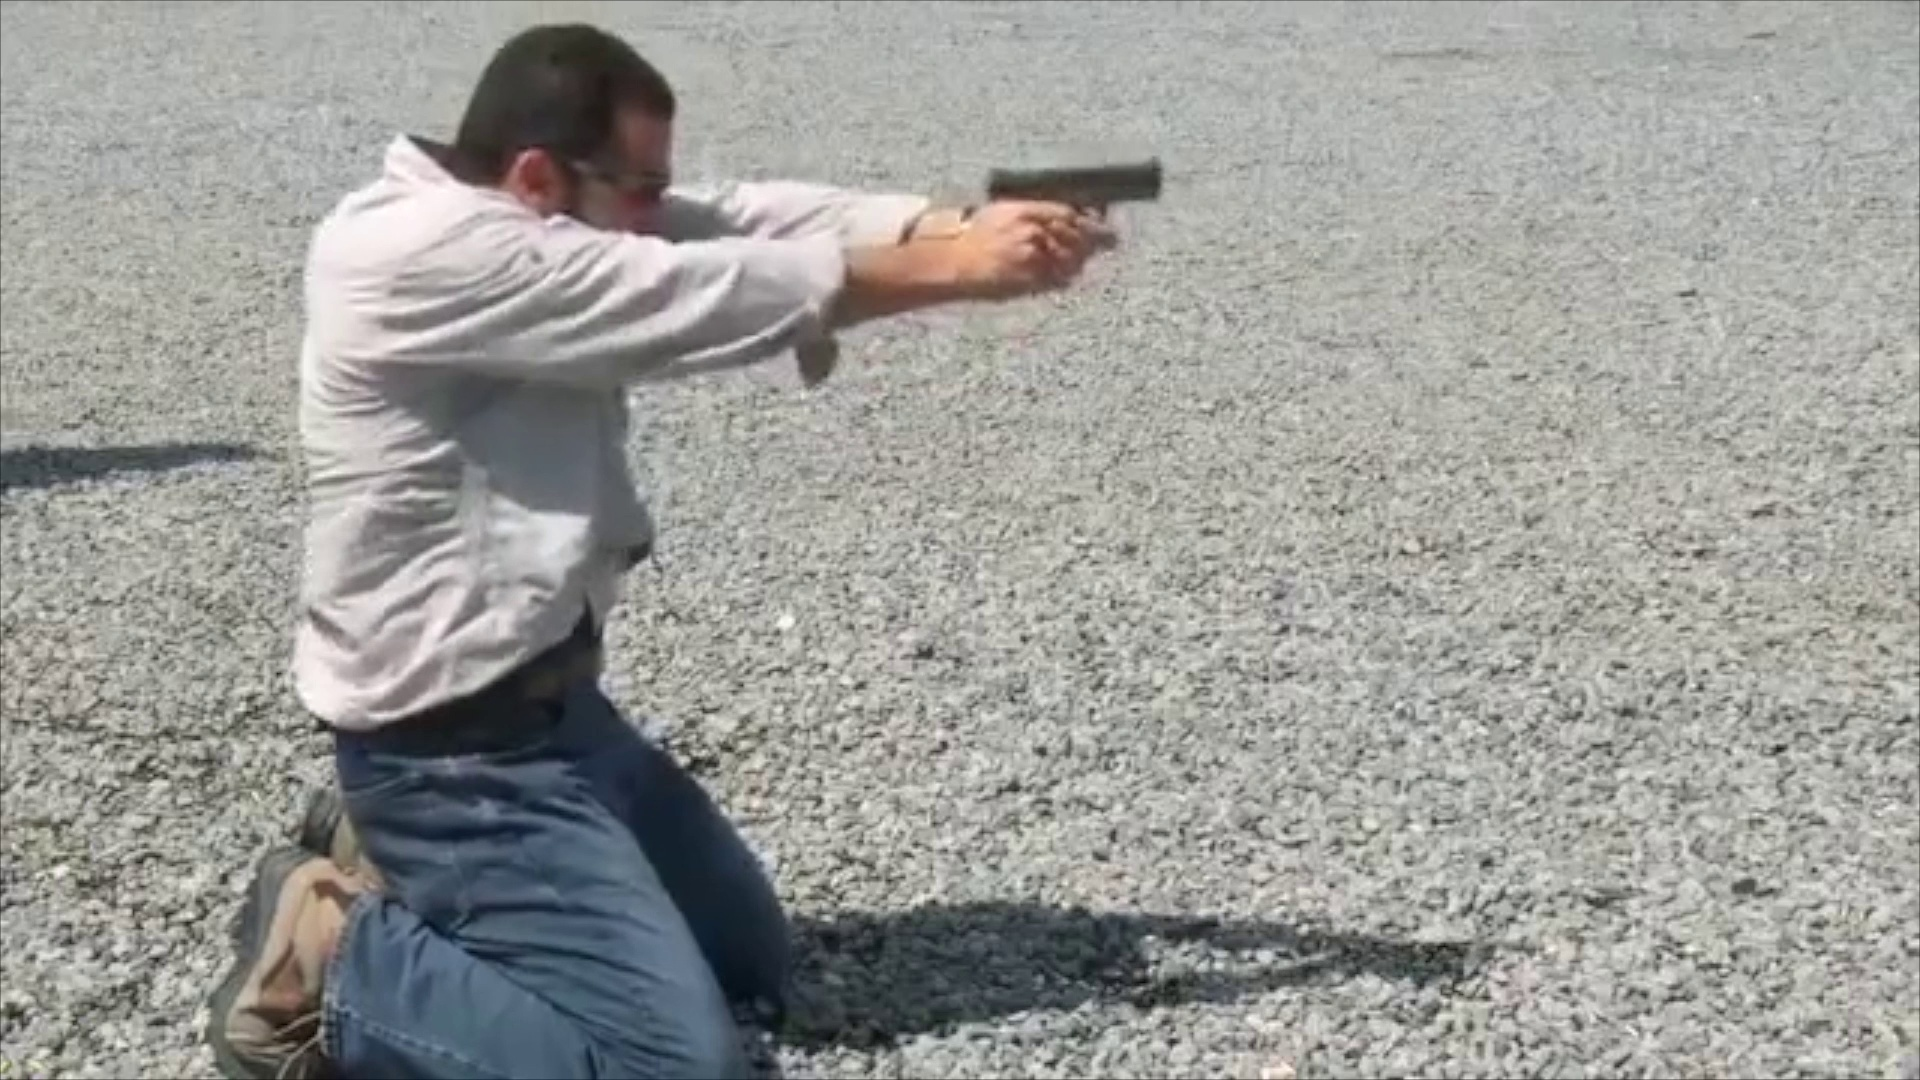gun: (981, 152, 1160, 236)
